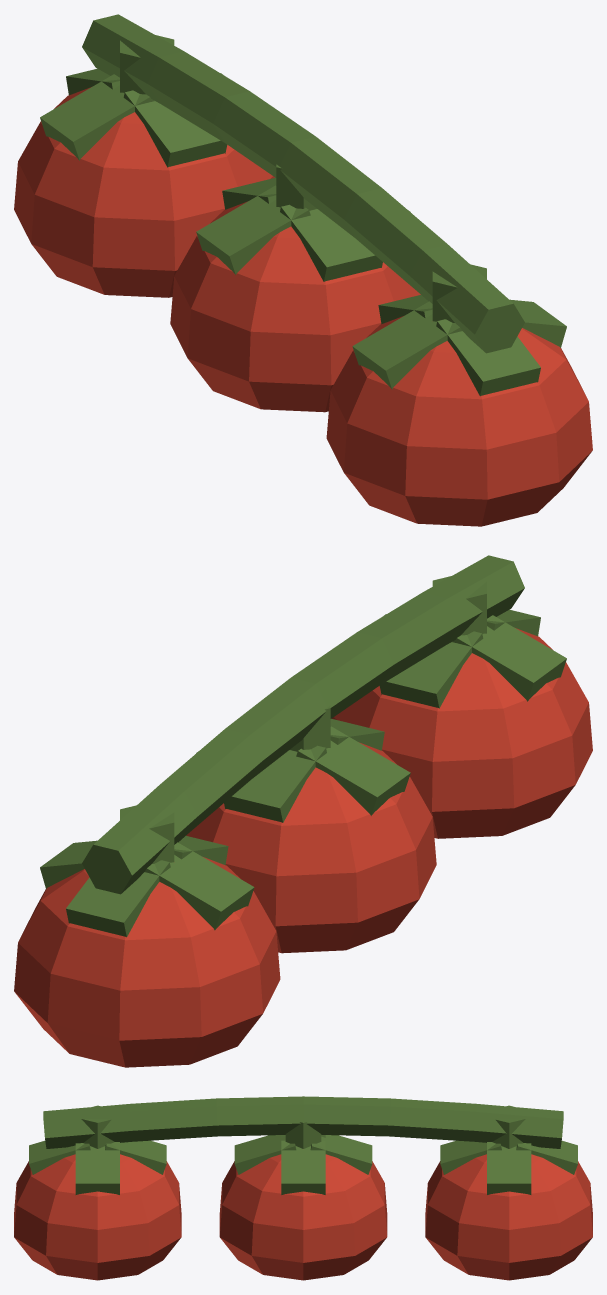
File: SM_LPI_Food_TomatoVine_01.fbx
3 views of the same model, one above another, from view 1: azimuth 30°, elevation 25°; view 2: azimuth 150°, elevation 25°; view 3: azimuth 270°, elevation 25° (orthographic). The views are drawn at different scales.
Visible parts, largest first — view 1: SM_LPI_Food_TomatoVine_01; view 2: SM_LPI_Food_TomatoVine_01; view 3: SM_LPI_Food_TomatoVine_01.
Part boxes in pixels (x1,y1,x2,y2): SM_LPI_Food_TomatoVine_01: [14, 14, 592, 526]; SM_LPI_Food_TomatoVine_01: [14, 555, 592, 1067]; SM_LPI_Food_TomatoVine_01: [14, 1096, 592, 1280].
Size of the model in its own units: 0.06 by 0.0608 by 0.1971.
